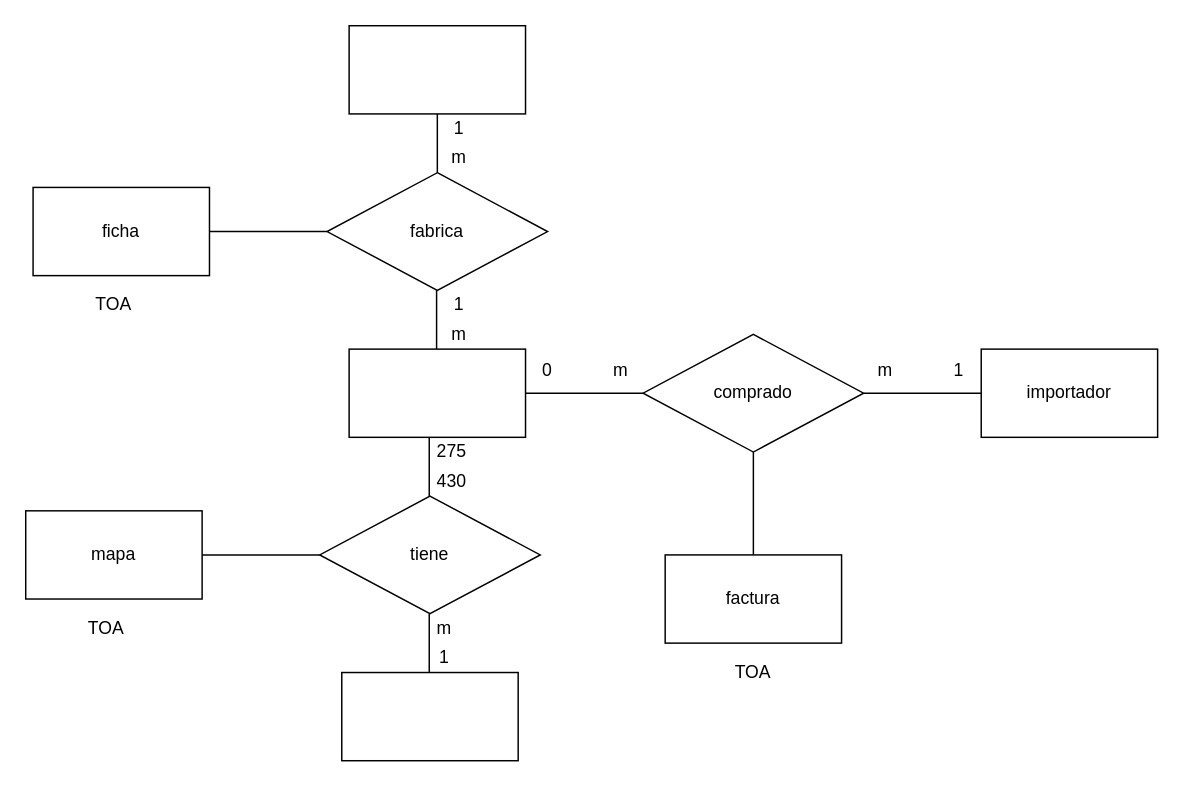
This 1183x786 diagram has some shape labels left out. Each missing label, with the centre of its shape:
"operario" goes at point (437, 69).
"pieza" goes at point (437, 392).
"televisor" goes at point (429, 716).
